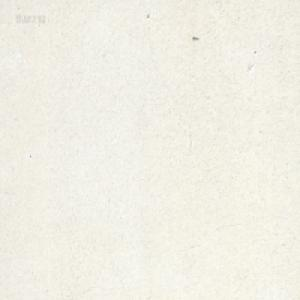Nail: (192, 34, 199, 40)
